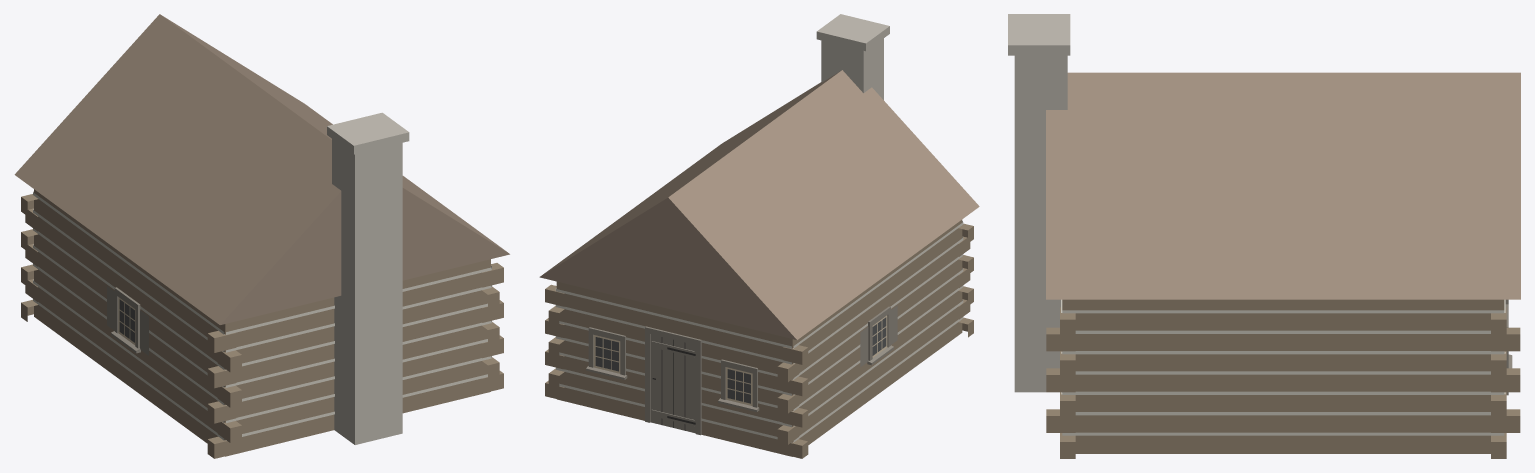
File: recon_1835_south_d1_021__inferred_1835.glb
3 renders of one model, left to right at view 1: azimuth 30°, elevation 25°; view 2: azimuth 150°, elevation 25°; view 3: azimuth 270°, elevation 25°, orthographic. The views are drawn at different scales.
Parts seen in each view (by area): view 1: recon_1835_south_d1_021__inferred_1835; view 2: recon_1835_south_d1_021__inferred_1835; view 3: recon_1835_south_d1_021__inferred_1835.
Boxes of the visible parts, x1,y1,x2,y2 form: recon_1835_south_d1_021__inferred_1835: [14, 14, 509, 458]; recon_1835_south_d1_021__inferred_1835: [539, 14, 979, 458]; recon_1835_south_d1_021__inferred_1835: [1008, 14, 1520, 458].
Bounding box in the file's own units: 5.86 × 5.83 × 7.75.
